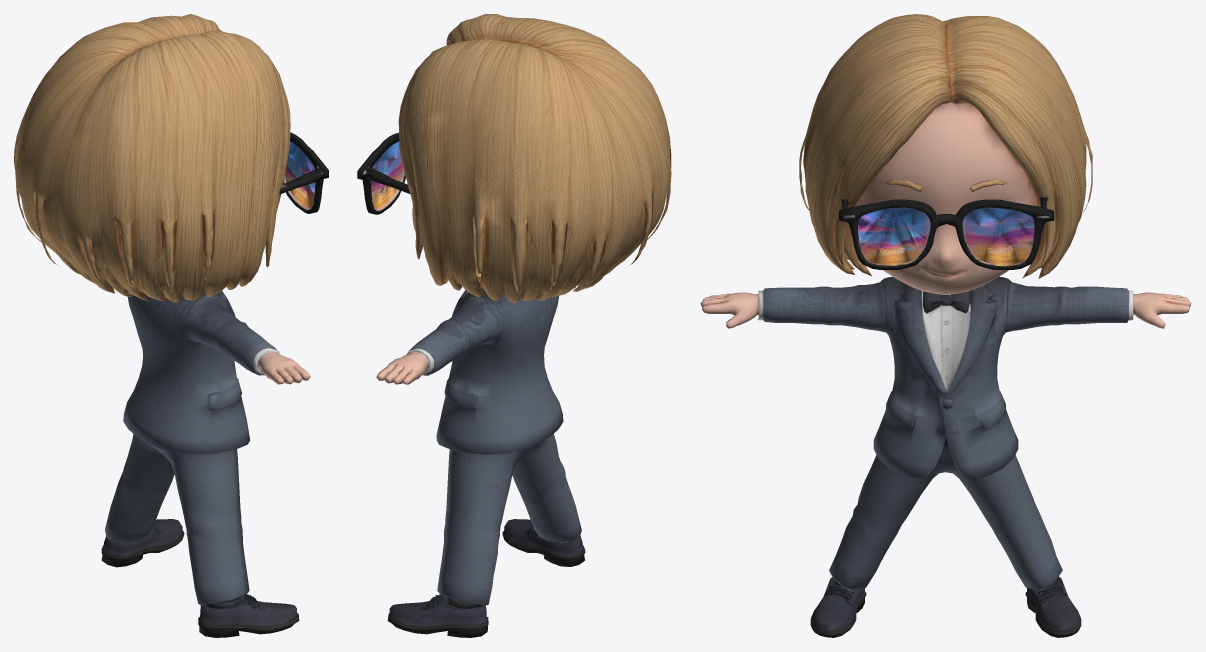
Rendered from female_avatar_1.glb.
3 views of the same model, side by side, from view 1: azimuth 30°, elevation 25°; view 2: azimuth 150°, elevation 25°; view 3: azimuth 270°, elevation 25° (orthographic). The views are drawn at different scales.
Parts seen in each view (by area): view 1: tripo_node_bdc6506c-989e-47fd-9b79-9aa5d40cae29; view 2: tripo_node_bdc6506c-989e-47fd-9b79-9aa5d40cae29; view 3: tripo_node_bdc6506c-989e-47fd-9b79-9aa5d40cae29.
Part boxes in pixels (x1,y1,x2,y2): tripo_node_bdc6506c-989e-47fd-9b79-9aa5d40cae29: (14,14,328,637); tripo_node_bdc6506c-989e-47fd-9b79-9aa5d40cae29: (357,14,671,637); tripo_node_bdc6506c-989e-47fd-9b79-9aa5d40cae29: (700,14,1191,637).
Bounding box in the file's own units: 0.4473 × 0.998 × 0.7754.
Materials: 1 (1 with a texture image).
